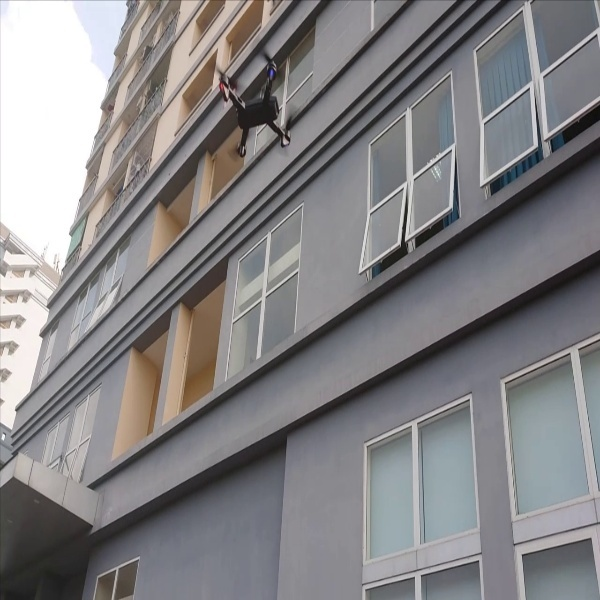drone: (204, 44, 314, 167)
